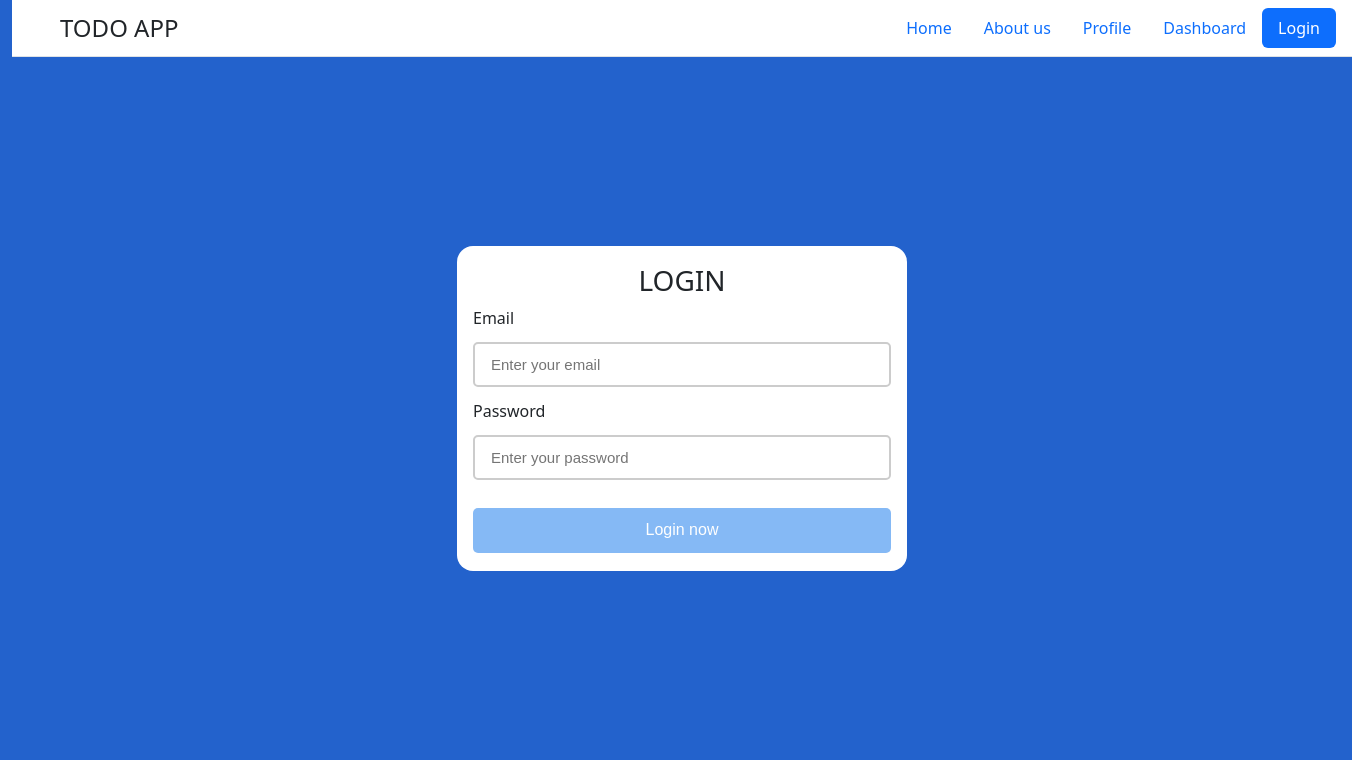
Test: Login page test › Validate email and password in form
Type "abc" into the field named "email" at (682, 365), box [473,342,891,387]
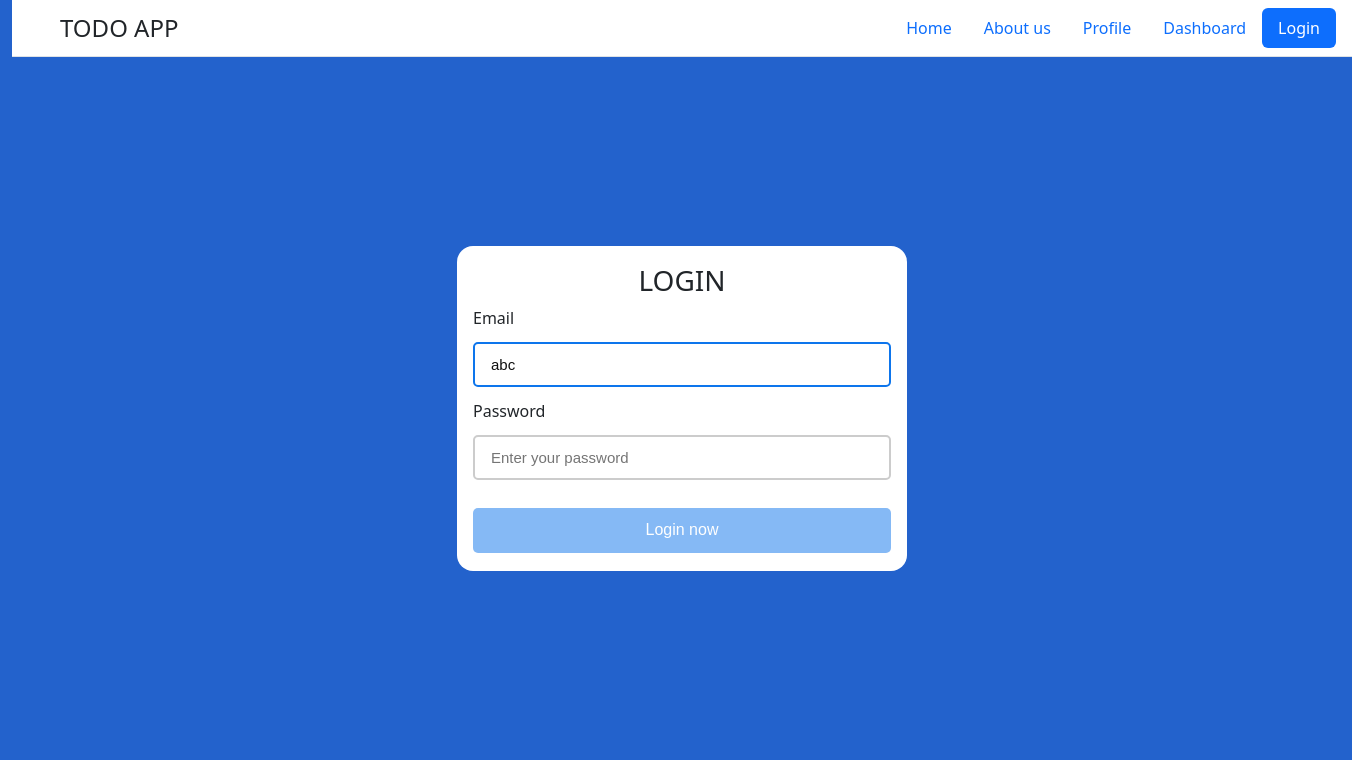
Leave the field named "email", box [473,342,891,387]
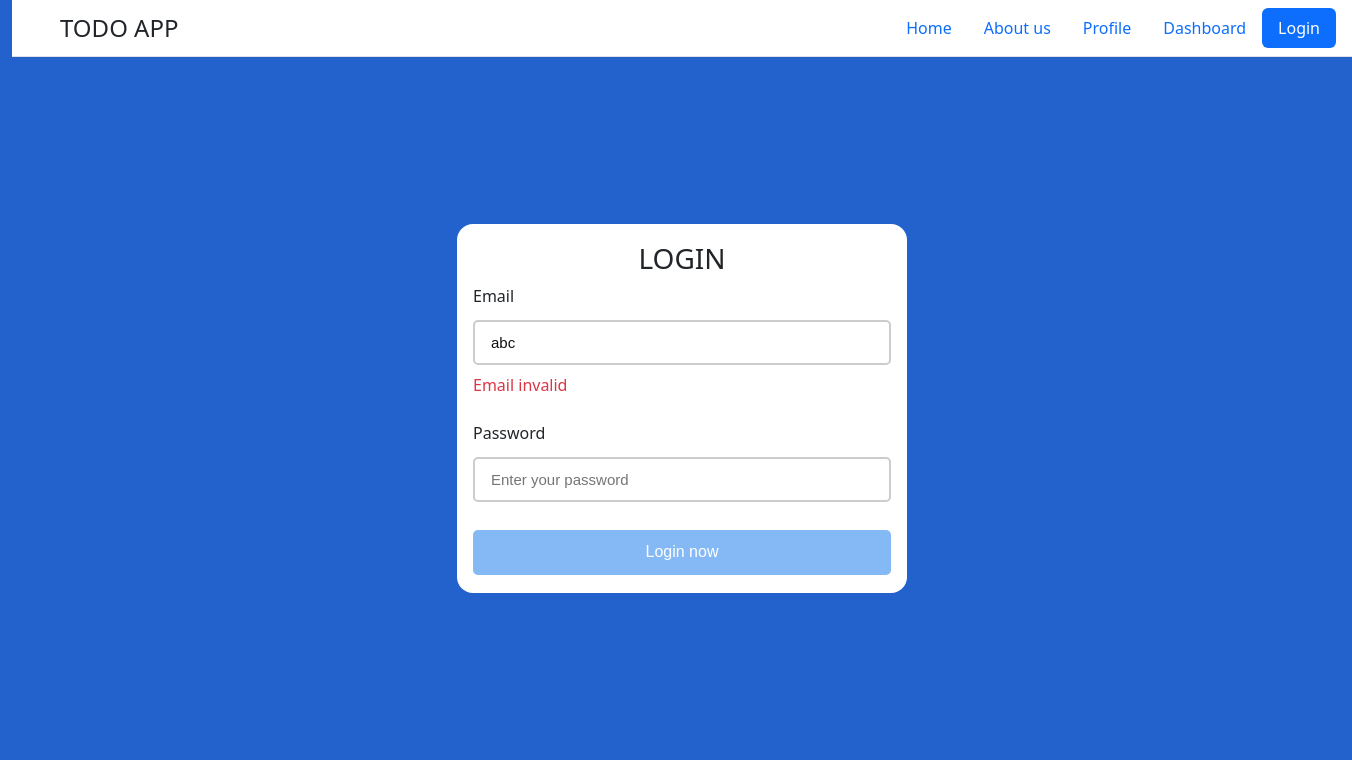
Expected: the text "Email invalid" is shown, [473,374,568,396]
Type "123" into the field named "password" at (682, 480), box [473,457,891,502]
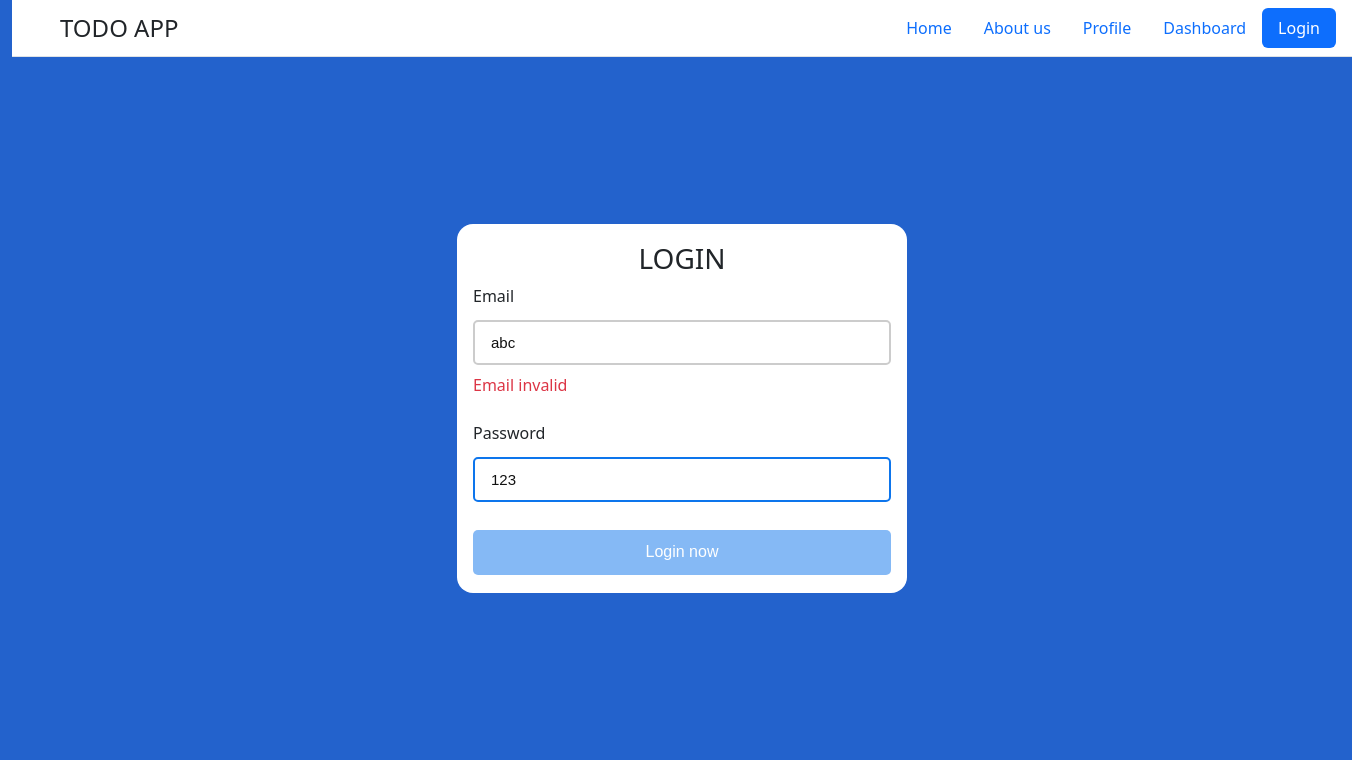
Leave the field named "password" below "Password", box [473,457,891,502]
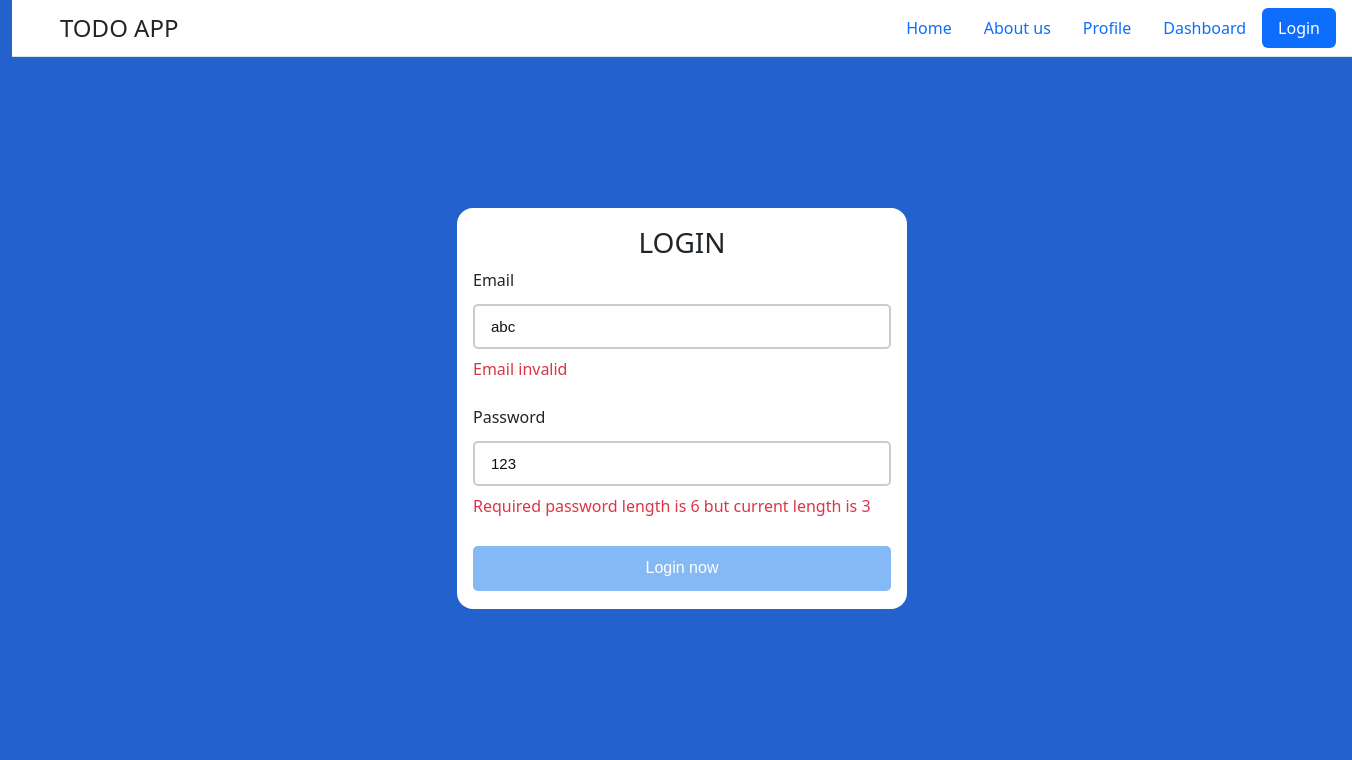
Expected: the button "Login now" is disabled, [473,546,891,591]
Expected: the text "Required password" is shown, [473,495,871,517]
